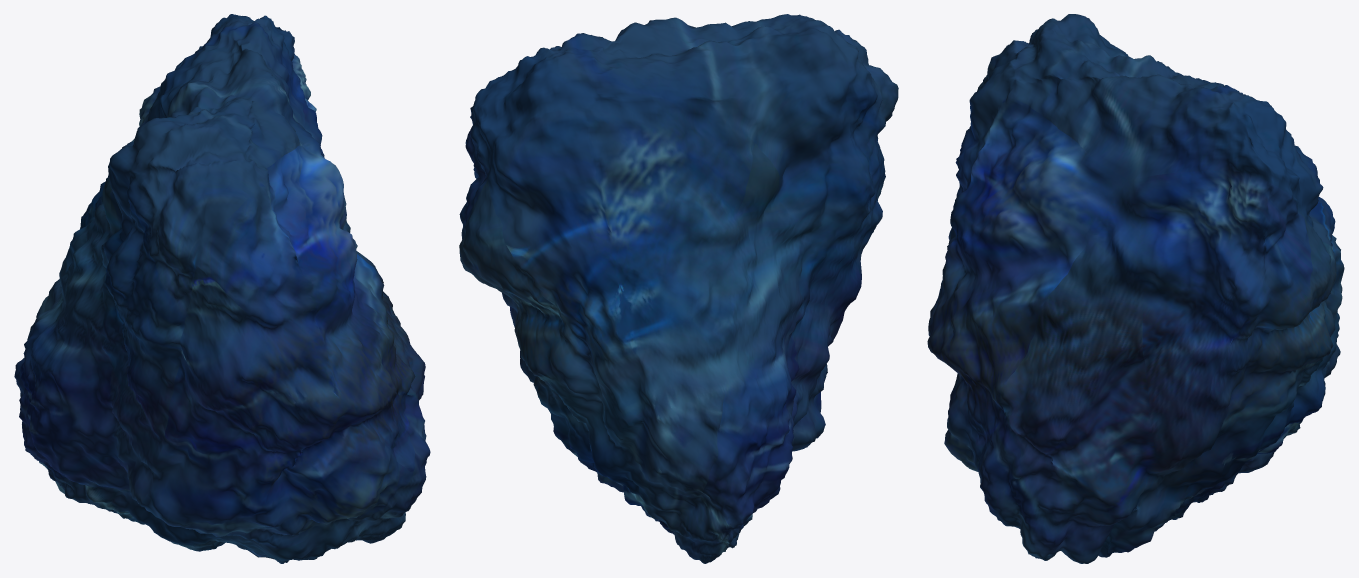
The model's file is cobaltbrighten.gltf.
The picture shows the model from 3 angles, left to right: view 1: azimuth 30°, elevation 25°; view 2: azimuth 150°, elevation 25°; view 3: azimuth 270°, elevation 25°; orthographic projection. The views are drawn at different scales.
Visible parts, largest first — view 1: rock.004; view 2: rock.004; view 3: rock.004.
Part boxes in pixels (left/top/right/bottom): rock.004: left=14, top=14, right=430, bottom=563; rock.004: left=459, top=14, right=898, bottom=563; rock.004: left=927, top=14, right=1344, bottom=563.
Bounding box in the file's own units: 0.6336 × 0.9631 × 0.7619.
1 material, 1 textured.
